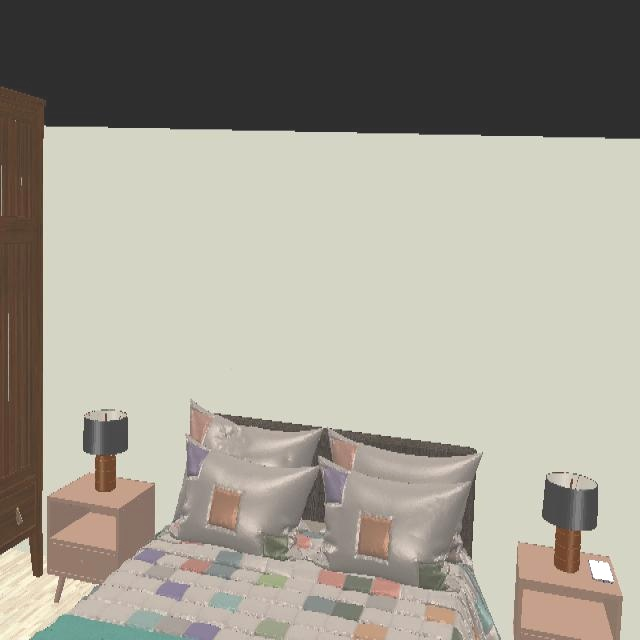bed: (30, 535, 499, 640)
lamp: (541, 471, 600, 575), (83, 409, 130, 493)
nighttable: (45, 475, 155, 585), (514, 543, 623, 640)
pillow: (155, 403, 441, 589)
